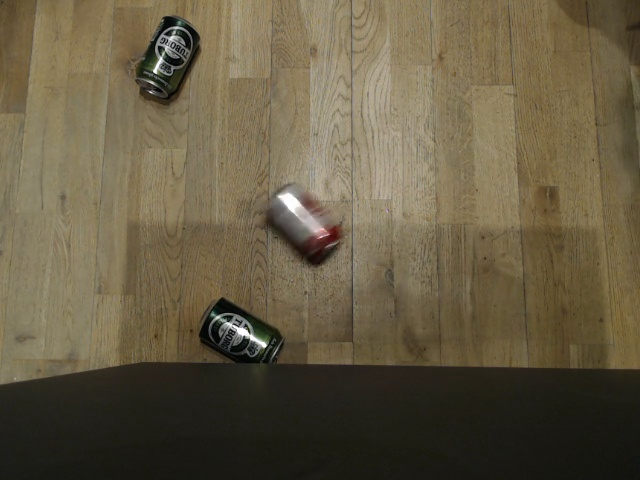beer: (193, 294, 286, 368), (133, 14, 204, 102)
cola: (260, 180, 347, 269)
